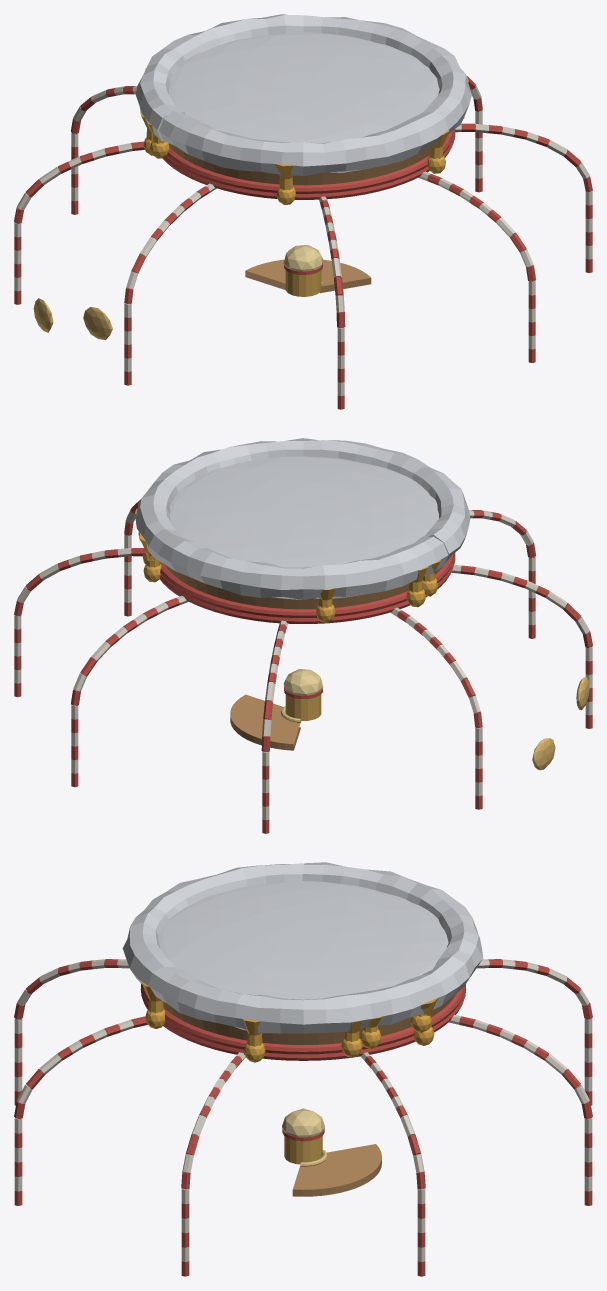
File: goo_jar_trim_3_top@winter.fbx
The picture shows the model from 3 angles, top to bottom: view 1: azimuth 30°, elevation 25°; view 2: azimuth 150°, elevation 25°; view 3: azimuth 270°, elevation 25°; orthographic projection. The views are drawn at different scales.
Parts seen in each view (by area): view 1: goo_jar_trim_3_top; view 2: goo_jar_trim_3_top; view 3: goo_jar_trim_3_top.
Boxes of the visible parts, x1,y1,x2,y2 form: goo_jar_trim_3_top: [14, 14, 592, 409]; goo_jar_trim_3_top: [14, 438, 592, 833]; goo_jar_trim_3_top: [14, 862, 592, 1276].
Size of the model in its own units: 47.31 by 20.21 by 45.36.
